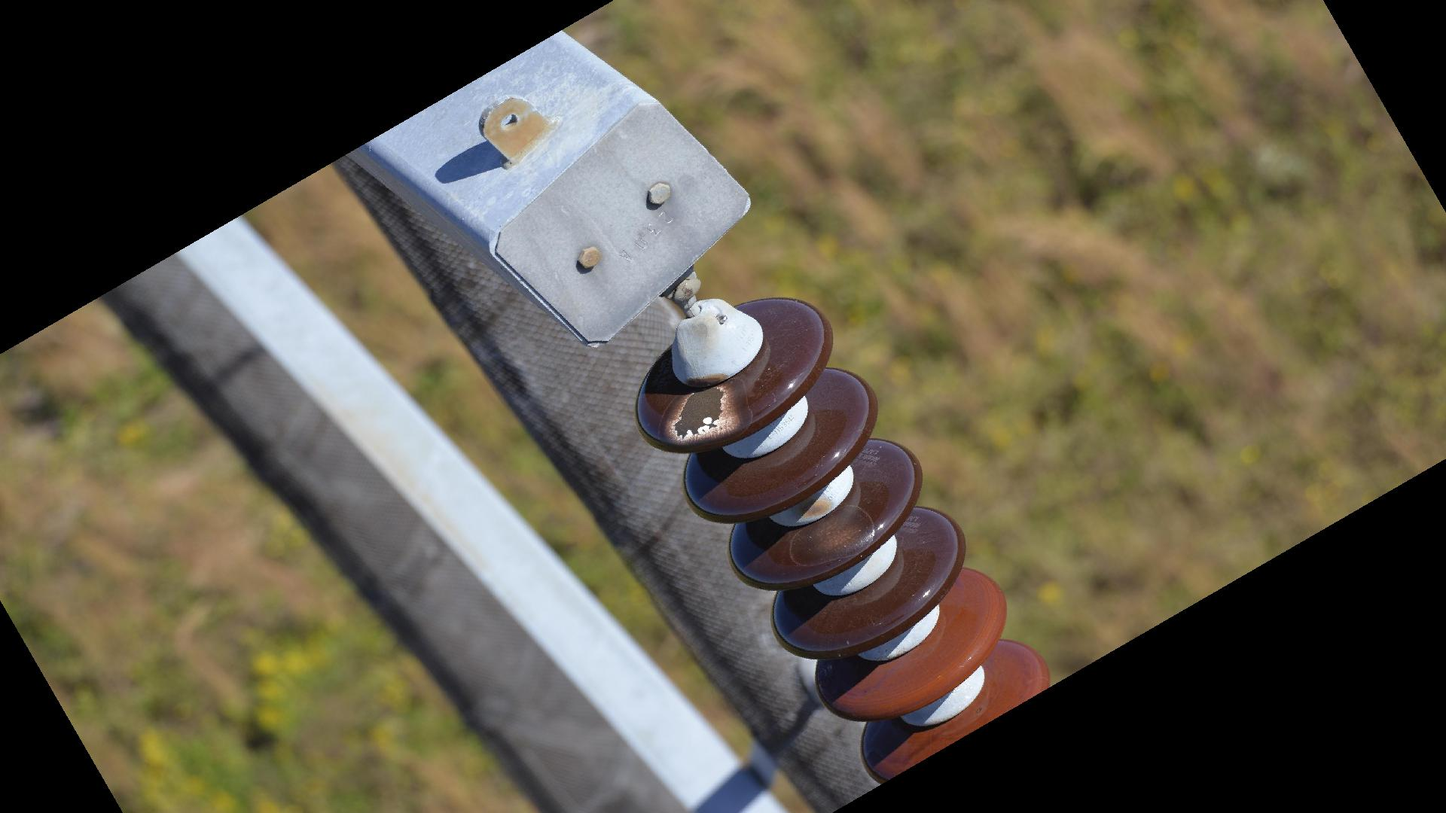insulator: (627, 292, 1057, 792)
insulator_flashover: (784, 501, 877, 571), (668, 379, 741, 446)
